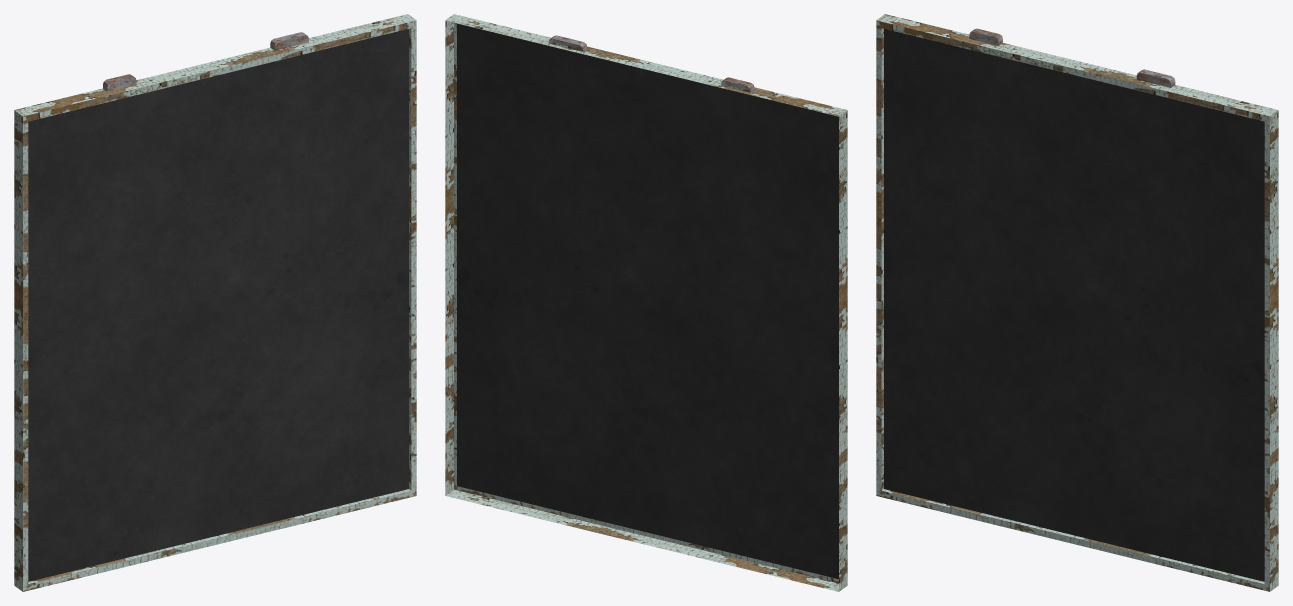
File: Mirror.glb
3 views of the same model, side by side, from view 1: azimuth 30°, elevation 25°; view 2: azimuth 150°, elevation 25°; view 3: azimuth 330°, elevation 25° (orthographic).
Parts seen in each view (by area): view 1: Mirror, Frame; view 2: Mirror, Frame; view 3: Mirror, Frame.
Boxes of the visible parts, x1,y1,x2,y2 form: Mirror: [28, 29, 408, 581]; Frame: [14, 14, 416, 591]; Mirror: [457, 23, 838, 579]; Frame: [445, 14, 847, 591]; Mirror: [884, 29, 1264, 581]; Frame: [876, 14, 1278, 591].
Size of the model in its own units: 52 by 61 by 2.
Materials: 2 (2 with a texture image).
